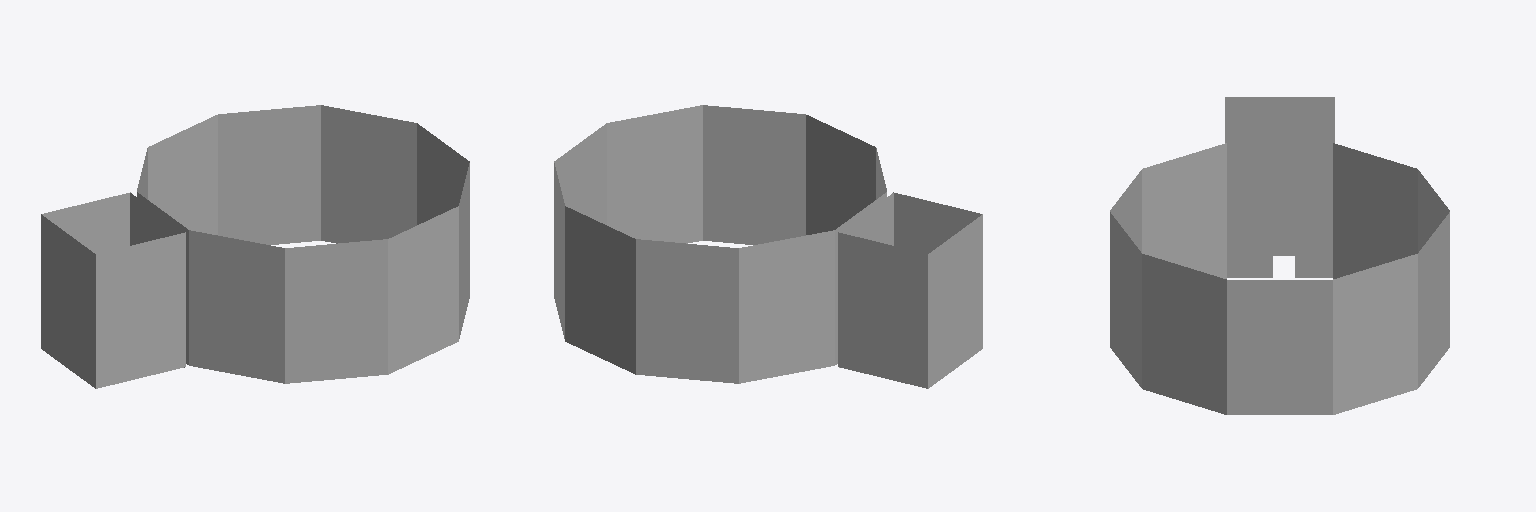
File: New_Wall_Col.obj
3 renders of one model, left to right at view 1: azimuth 30°, elevation 25°; view 2: azimuth 150°, elevation 25°; view 3: azimuth 270°, elevation 25°, orthographic.
Visible parts, largest first — view 1: New_Wall_Col; view 2: New_Wall_Col; view 3: New_Wall_Col.
Boxes of the visible parts, x1,y1,x2,y2 form: New_Wall_Col: [41, 105, 469, 388]; New_Wall_Col: [554, 105, 982, 388]; New_Wall_Col: [1110, 97, 1449, 414].
Size of the model in its own units: 593 by 205 by 466.